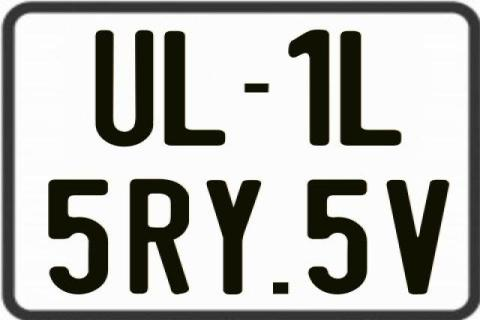0: (48, 178, 112, 298), (307, 177, 372, 292), (285, 30, 326, 146)
L: (162, 31, 229, 146), (340, 31, 401, 151)
R: (130, 178, 190, 298)
U: (94, 29, 158, 147)
V: (385, 177, 447, 297)
Y: (204, 179, 262, 295)
